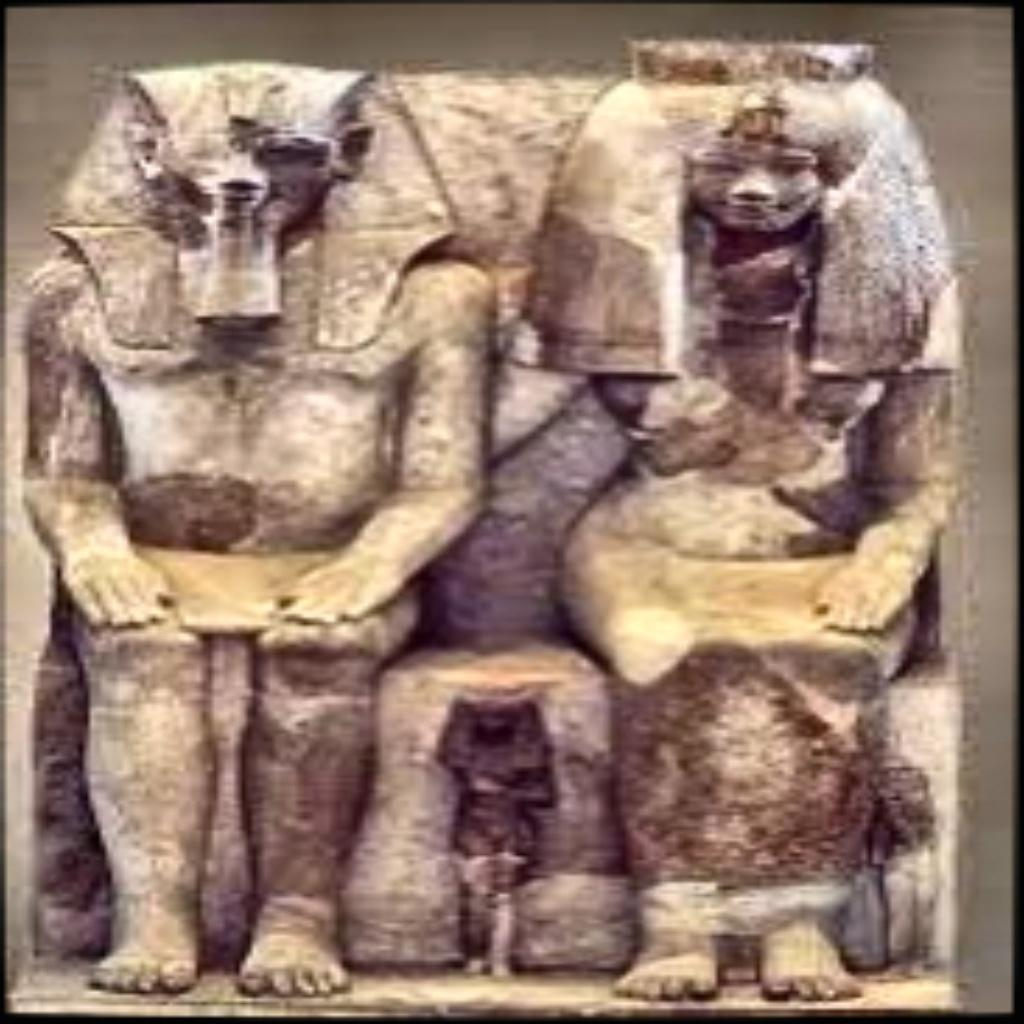Amenhotep III and Tiye: (16, 38, 962, 1002)
